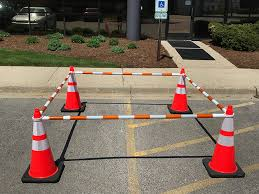cone: (203, 103, 247, 179), (20, 108, 64, 183), (168, 68, 198, 114), (60, 66, 87, 115)
